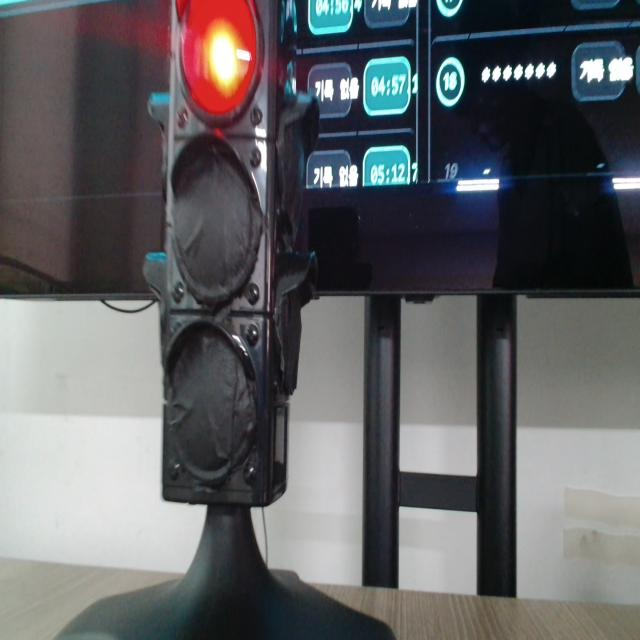red_light: (182, 0, 259, 116)
